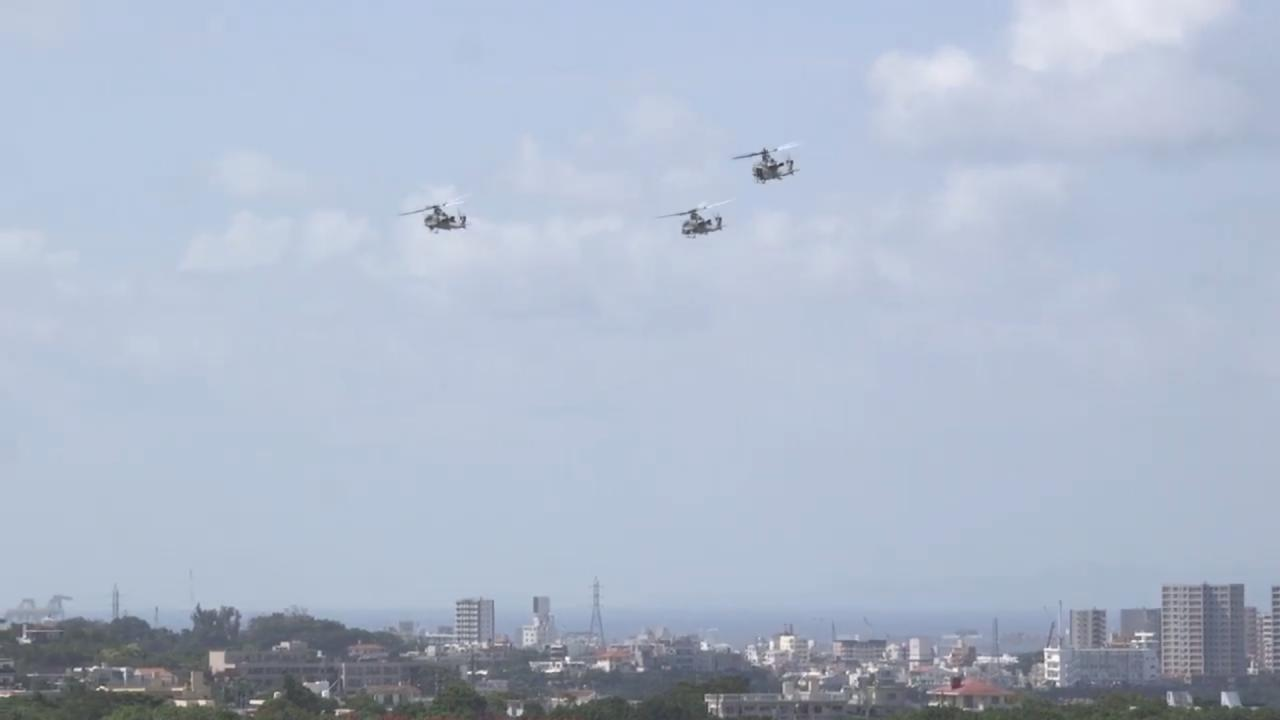Helicopter: (375, 176, 495, 252), (714, 124, 825, 201), (641, 186, 749, 254)
